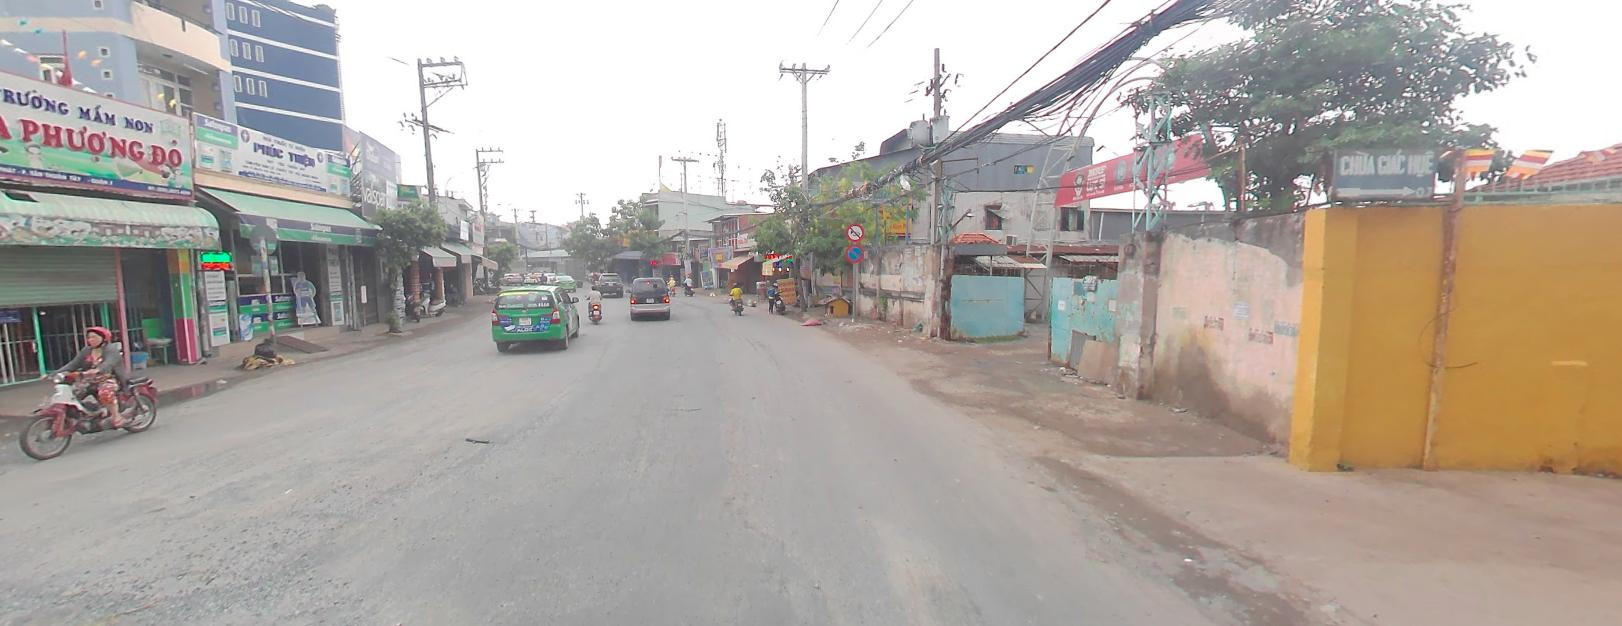Cam con lai: (846, 222, 864, 240)
Cam dung va do: (845, 242, 864, 260)
